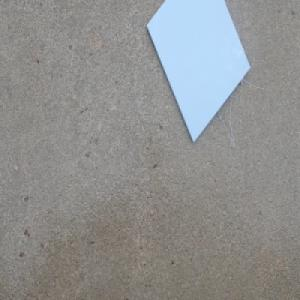PaintChip: (146, 0, 251, 145)
